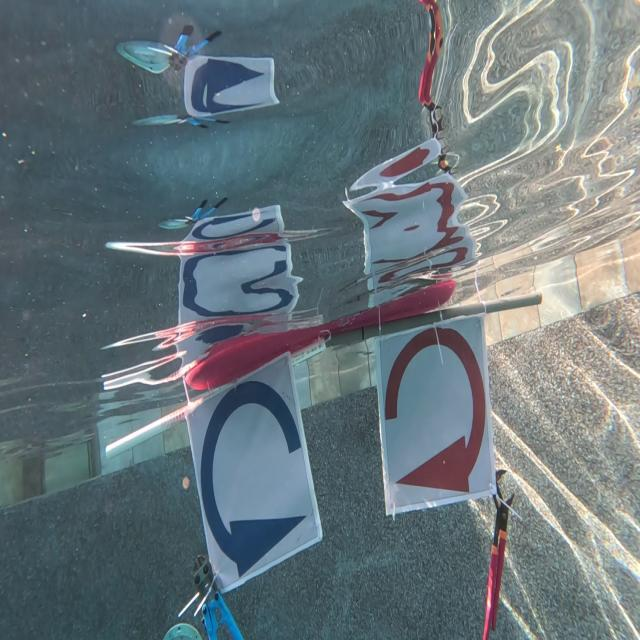blue_side: (191, 369, 296, 576)
red_side: (382, 322, 488, 492)
